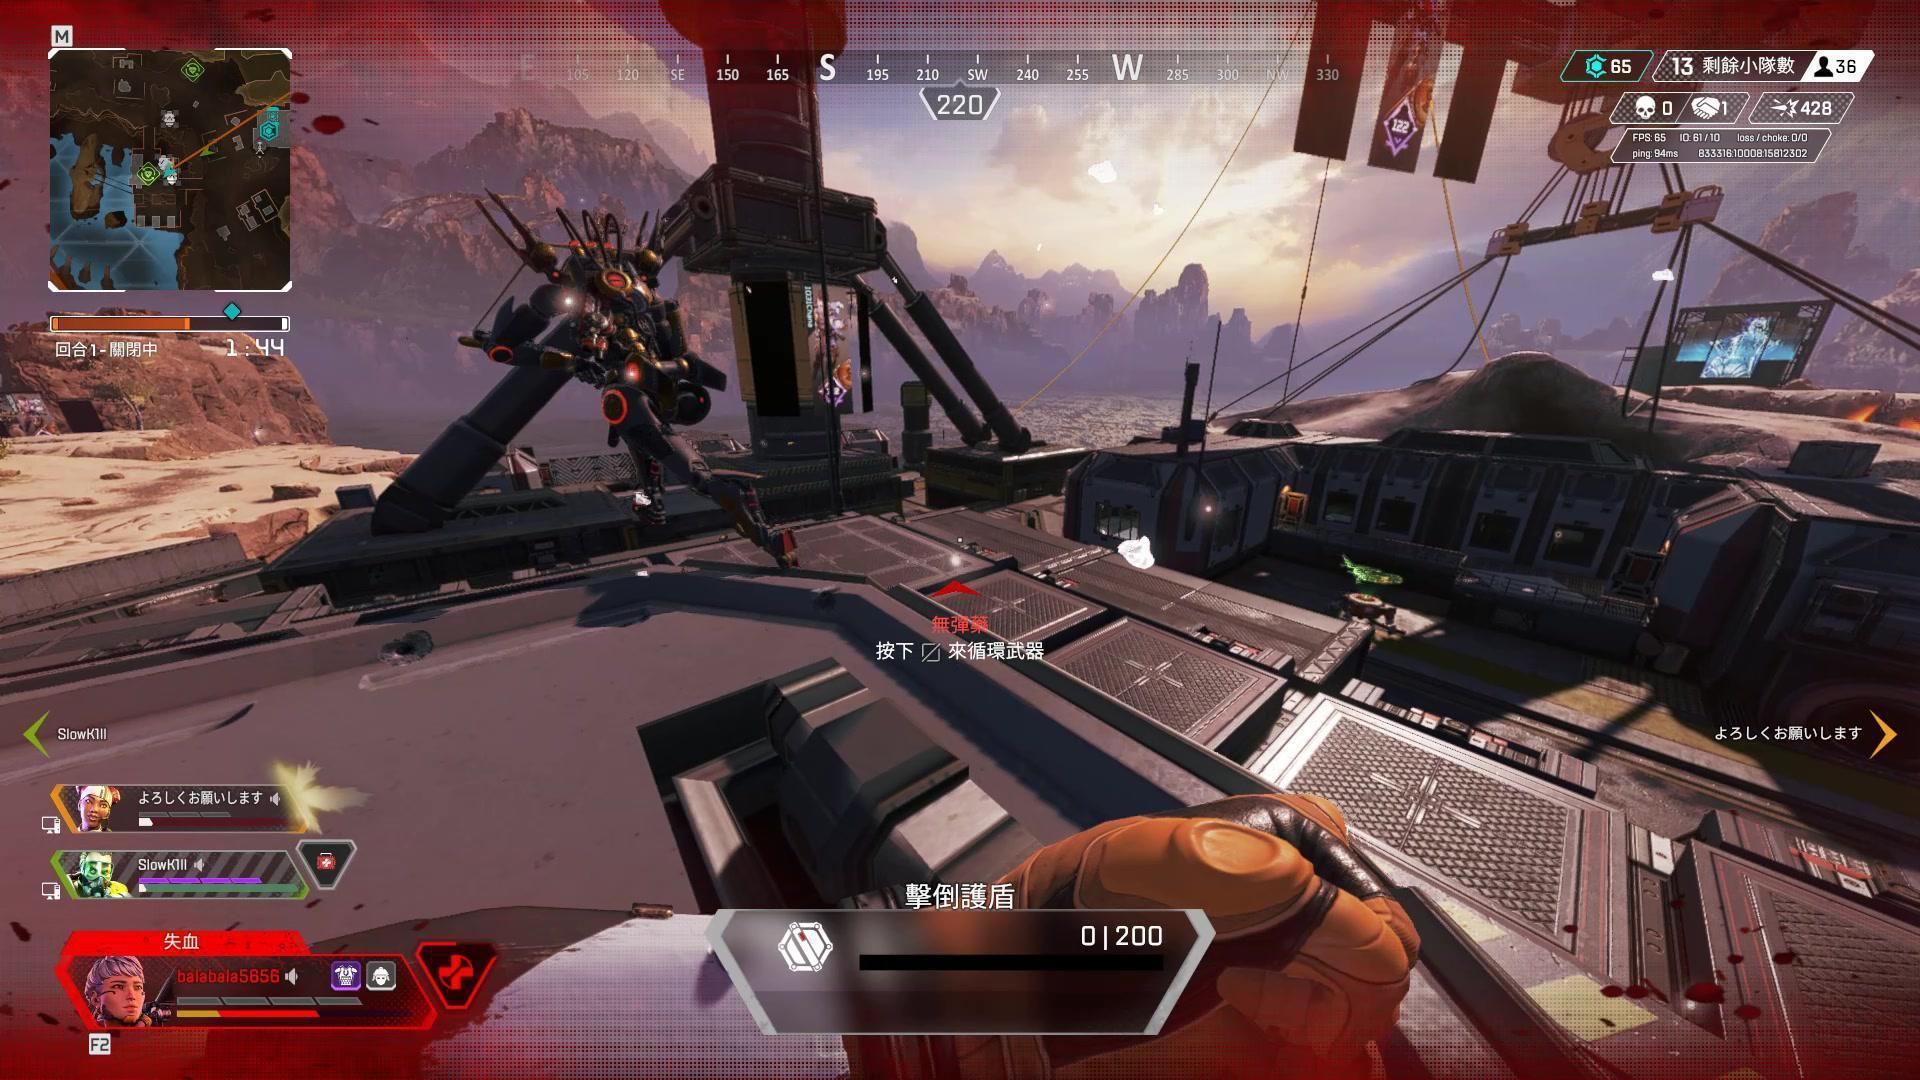avatar: (455, 240, 802, 578)
